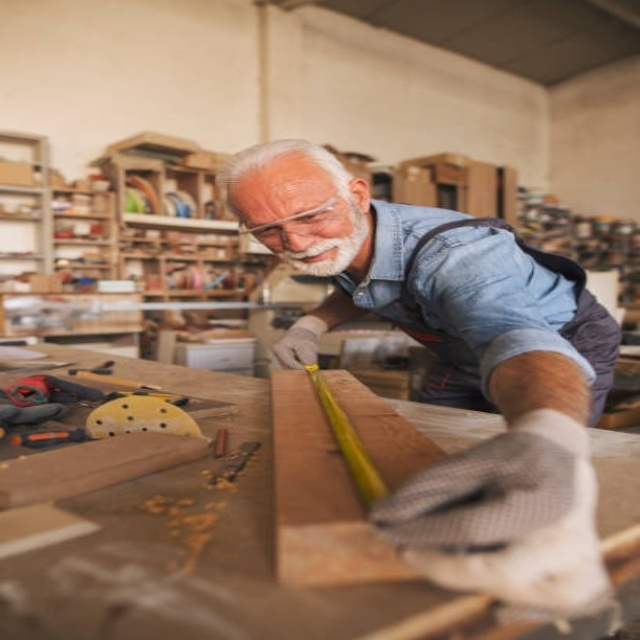Gafas: (239, 192, 346, 244)
Guantes: (366, 413, 614, 622), (272, 316, 329, 372)
Sin_mascara: (278, 242, 350, 274)
